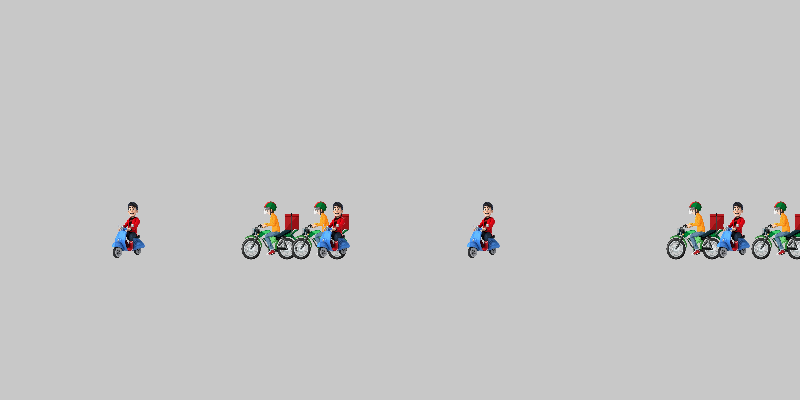helmet: (240, 200, 300, 260), (290, 200, 350, 260), (665, 200, 725, 260), (750, 200, 800, 260)
no_helmet: (100, 200, 160, 260), (305, 200, 365, 260), (455, 200, 515, 260), (705, 200, 765, 260)
